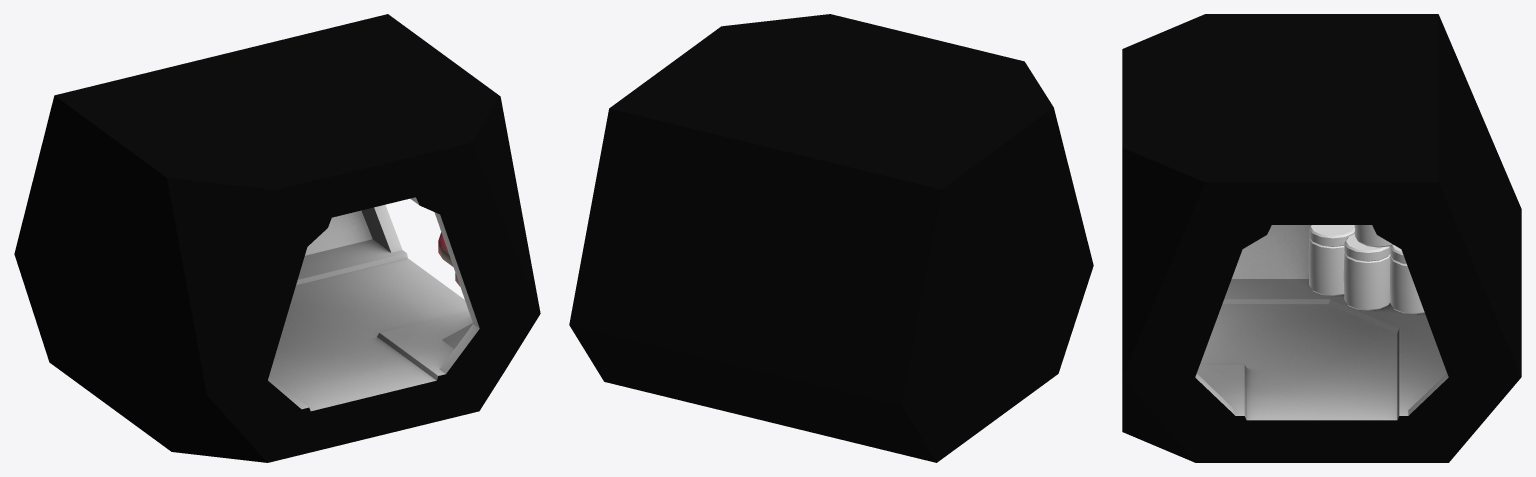
File: mod_Corner.glb
3 renders of one model, left to right at view 1: azimuth 30°, elevation 25°; view 2: azimuth 150°, elevation 25°; view 3: azimuth 270°, elevation 25°, orthographic. The views are drawn at different scales.
Visible parts, largest first — view 1: Plane.101; view 2: Plane.101; view 3: Plane.101, Cylinder.039, Cylinder.038, Cylinder.049, Cylinder.047.
Boxes of the visible parts, bbox=[...] form: Plane.101: bbox=[14, 14, 540, 462]; Plane.101: bbox=[569, 14, 1093, 462]; Plane.101: bbox=[1122, 14, 1521, 462]; Cylinder.039: bbox=[1343, 234, 1390, 310]; Cylinder.038: bbox=[1308, 225, 1354, 295]; Cylinder.049: bbox=[1390, 245, 1424, 314]; Cylinder.047: bbox=[1354, 225, 1393, 247].
Bounding box in the file's own units: 5 × 3.88 × 5.
2 materials, 2 textured.
